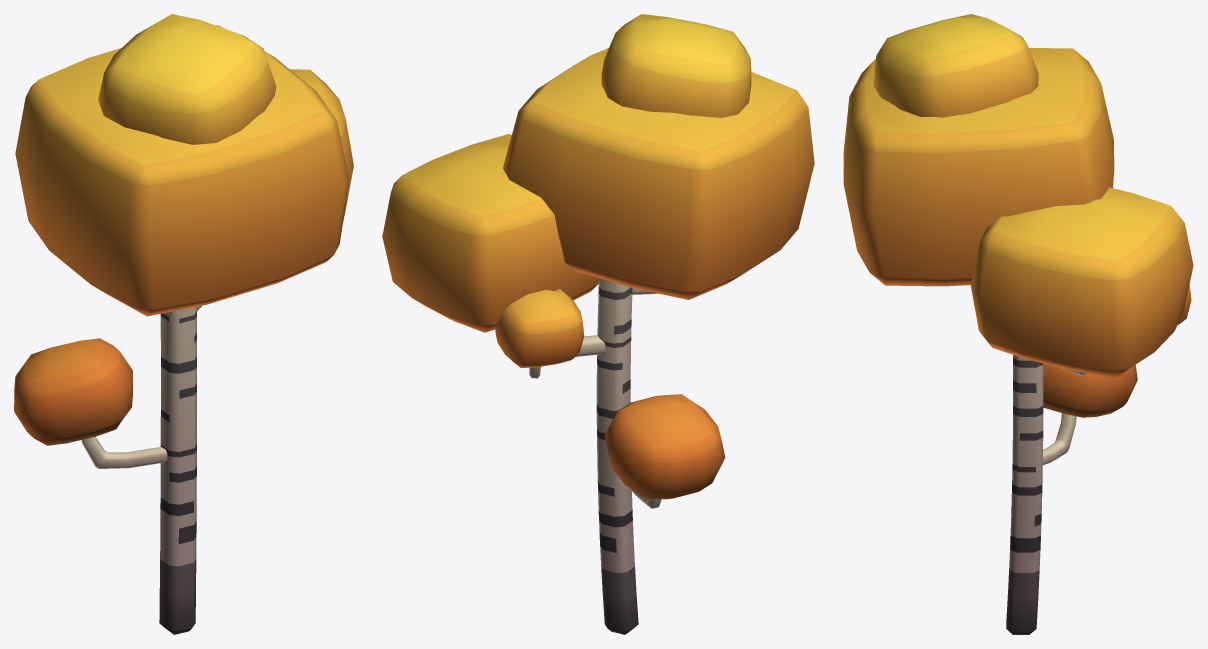
File: birch_tree_col2_03.fbx
The picture shows the model from 3 angles, left to right: view 1: azimuth 30°, elevation 25°; view 2: azimuth 150°, elevation 25°; view 3: azimuth 270°, elevation 25°; orthographic projection. The views are drawn at different scales.
Parts seen in each view (by area): view 1: birch_tree_col2_03; view 2: birch_tree_col2_03; view 3: birch_tree_col2_03.
Part boxes in pixels (x1,y1,x2,y2): birch_tree_col2_03: [14, 14, 353, 634]; birch_tree_col2_03: [382, 14, 814, 634]; birch_tree_col2_03: [843, 14, 1193, 634].
Bounding box in the file's own units: 540 × 937 × 500.
1 material, 1 textured.
